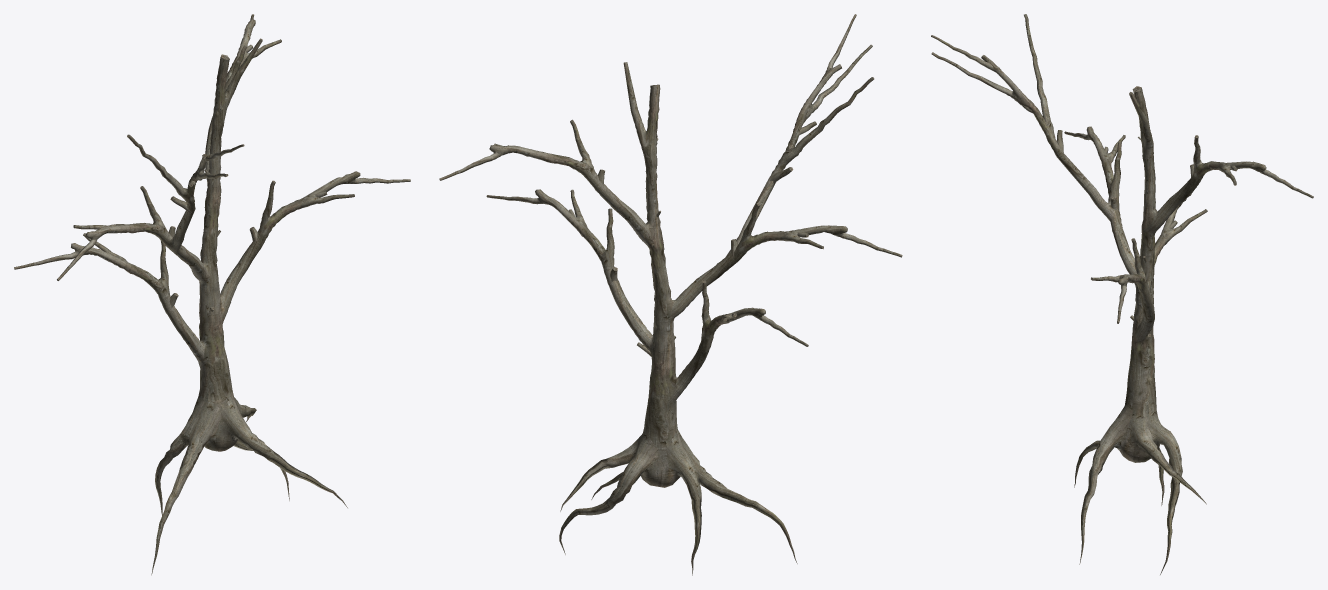
The model's file is DeadTree21.fbx.
3 renders of one model, left to right at view 1: azimuth 30°, elevation 25°; view 2: azimuth 150°, elevation 25°; view 3: azimuth 270°, elevation 25°, orthographic. The views are drawn at different scales.
Visible parts, largest first — view 1: DeadTree21; view 2: DeadTree21; view 3: DeadTree21.
Boxes of the visible parts, box(x1,y1,x2,y2) form: DeadTree21: box(14, 14, 410, 575); DeadTree21: box(439, 14, 902, 575); DeadTree21: box(931, 14, 1313, 574).
Bounding box in the file's own units: 908 × 1104 × 826.
2 materials, 2 textured.
